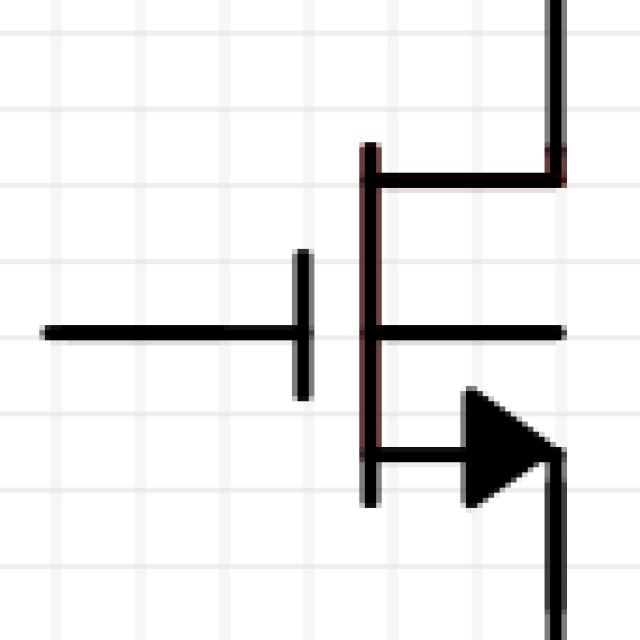pmos: (46, 59, 640, 592)
